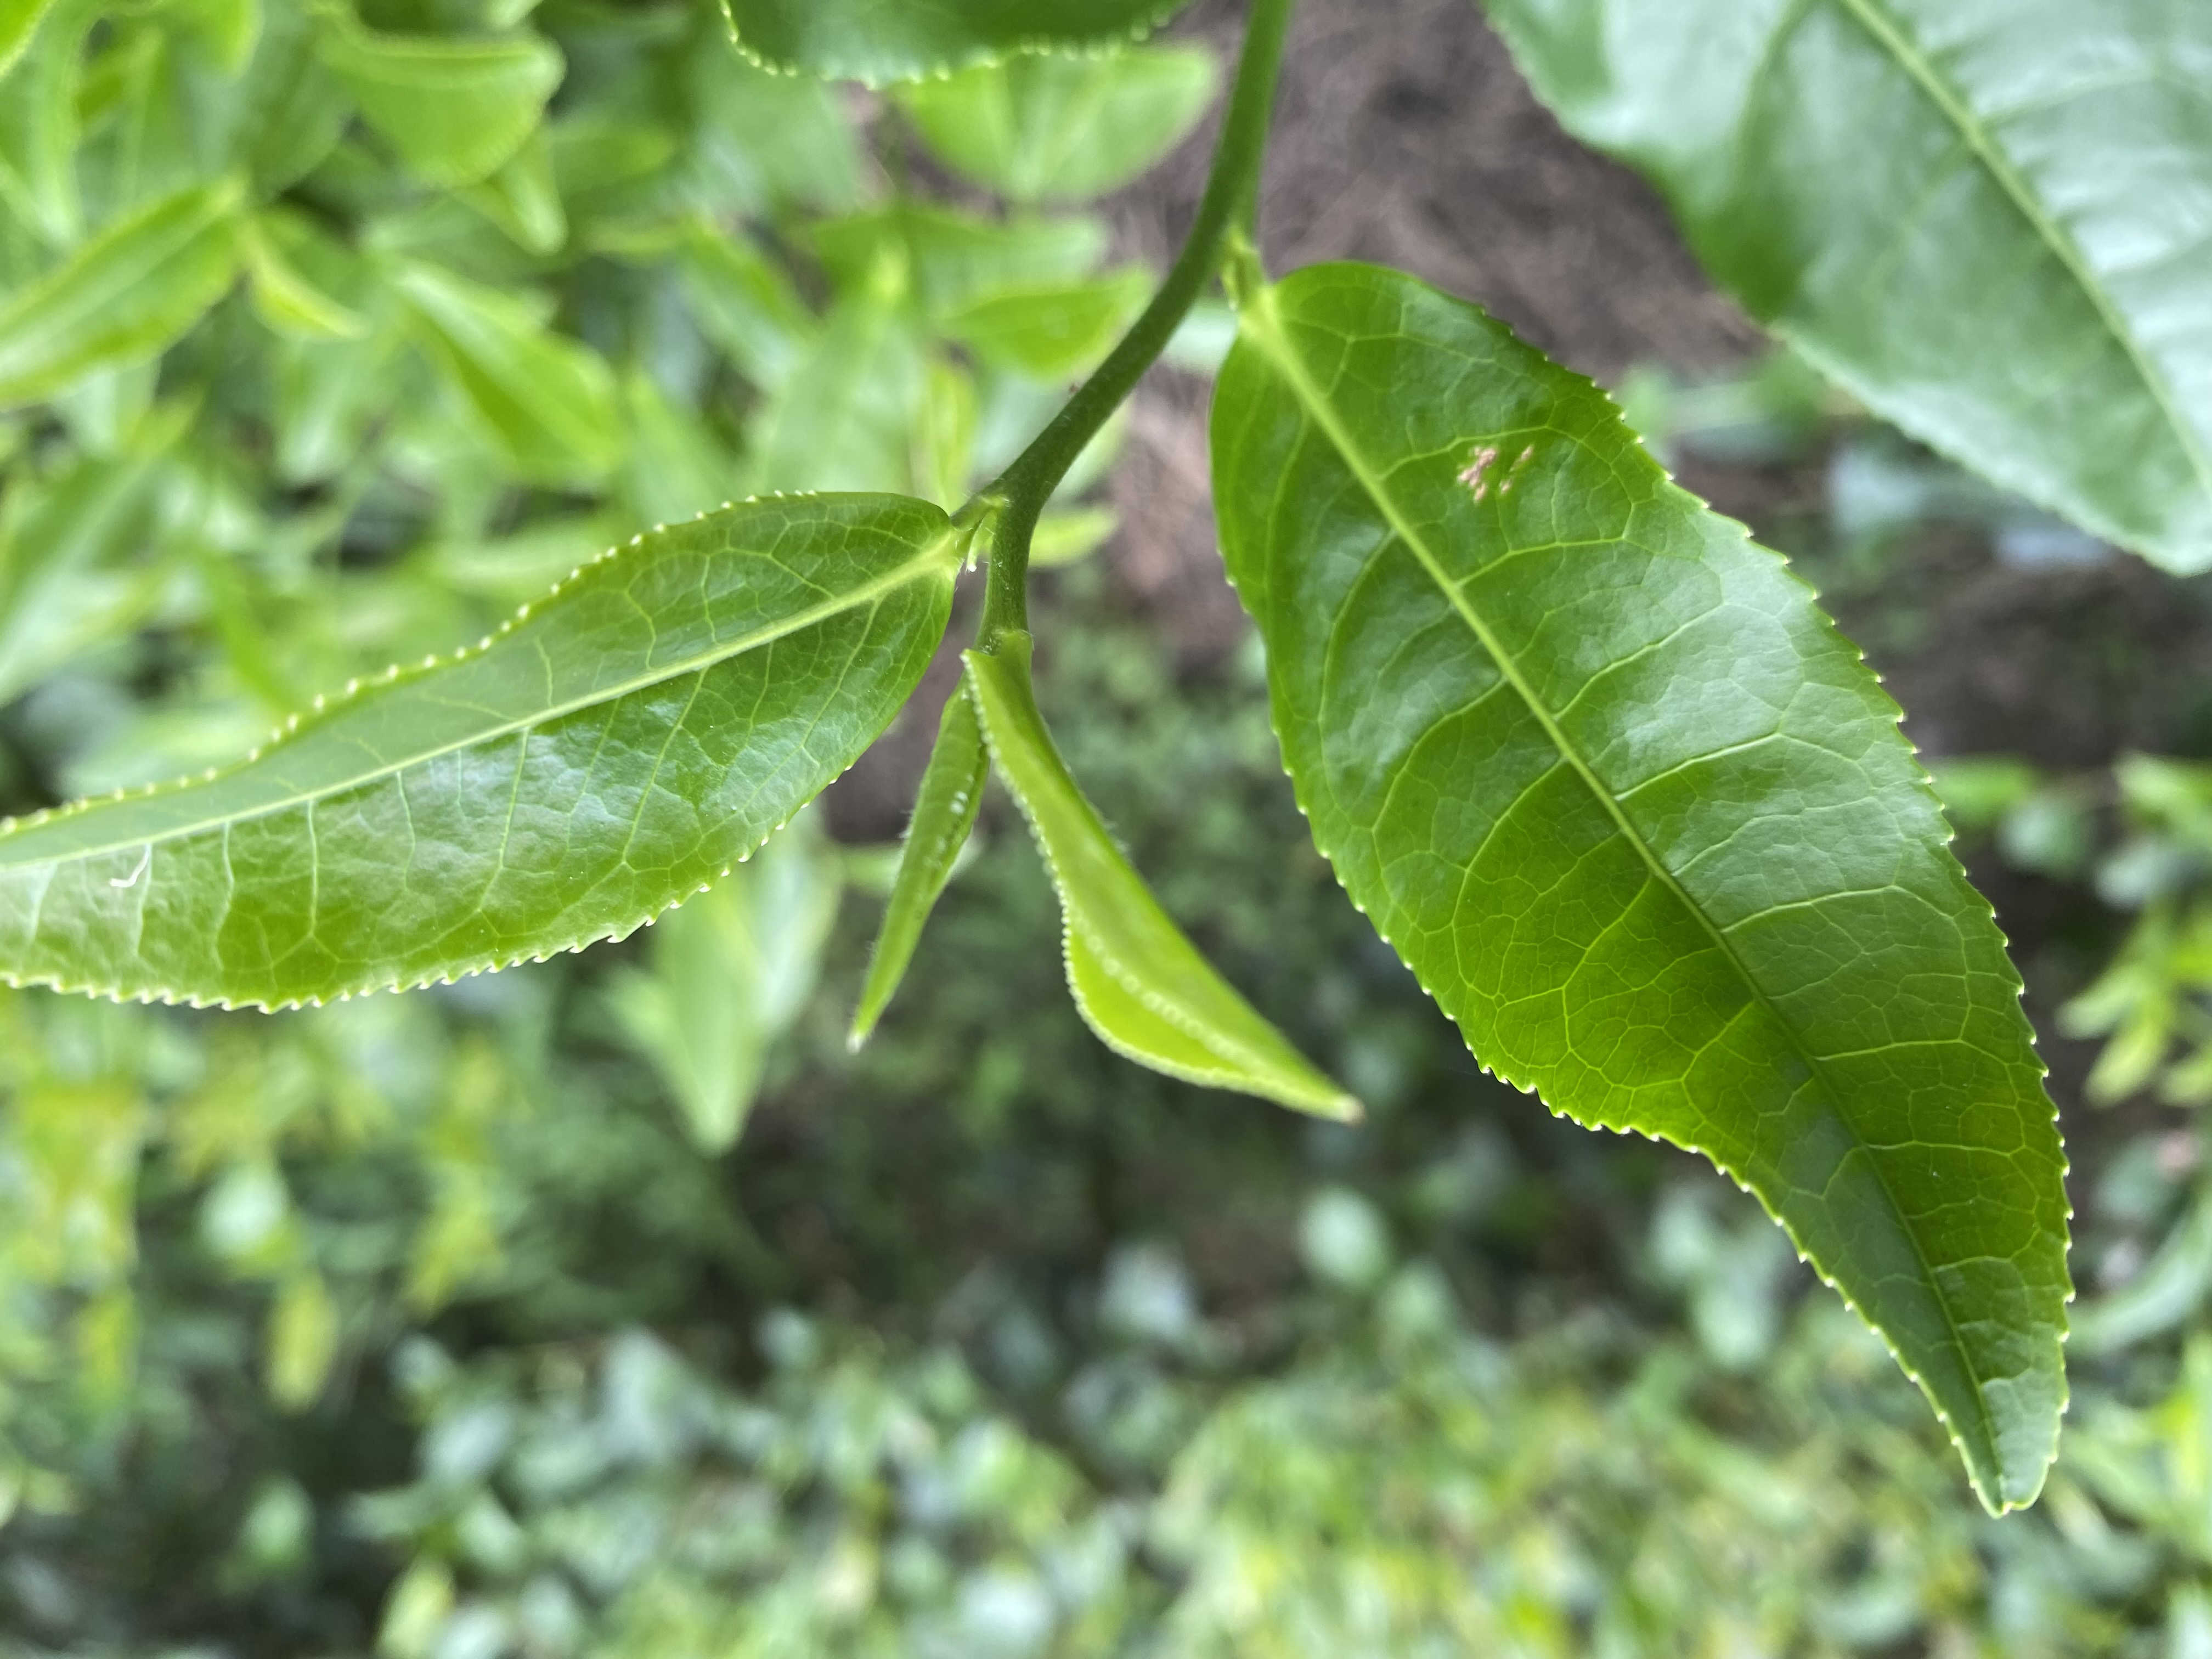healthy: (3, 490, 960, 1016)
tanju_low: (1205, 261, 2083, 1518)
